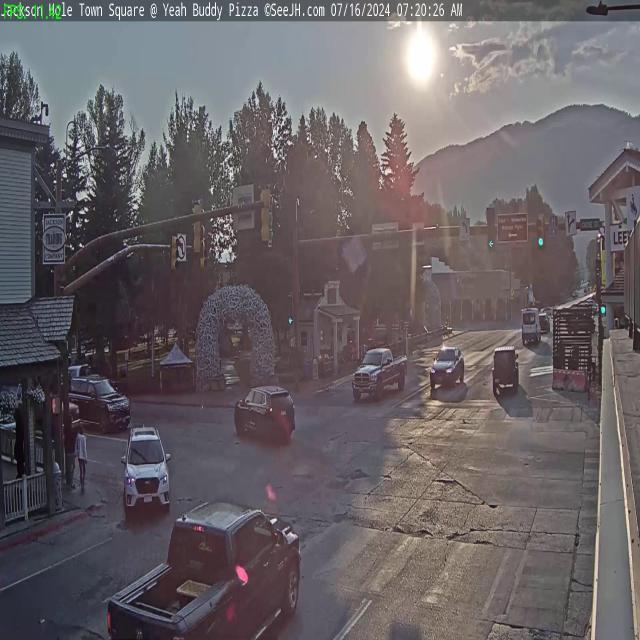person: (72, 409, 85, 492), (64, 410, 76, 494)
pickup: (103, 494, 304, 640), (351, 344, 409, 402)
suv: (120, 422, 173, 514), (68, 372, 130, 442), (233, 384, 295, 446), (430, 344, 466, 390), (492, 346, 518, 392)
traffic light: (190, 198, 204, 256), (260, 184, 272, 244), (486, 206, 496, 249), (170, 233, 180, 272), (536, 215, 545, 248)
van: (520, 307, 542, 342)
